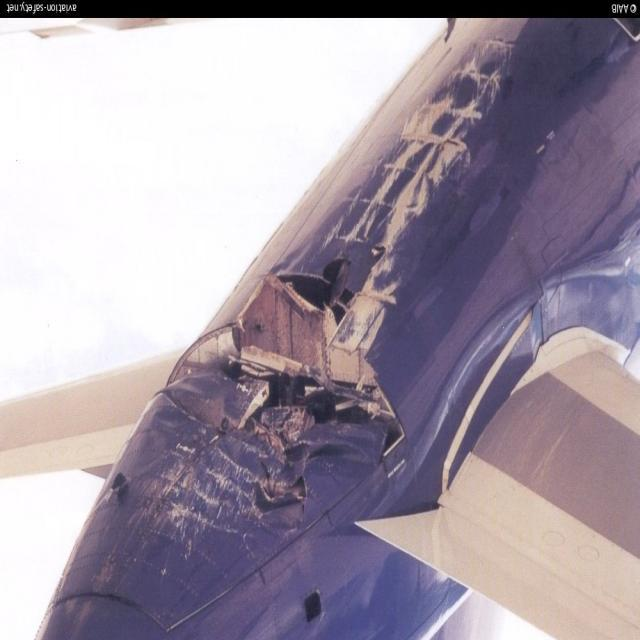crack: (219, 248, 410, 519)
